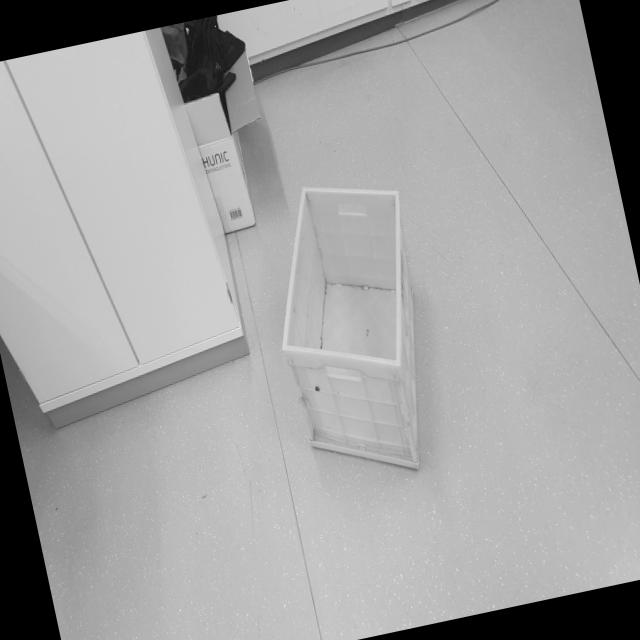box: (243, 144, 462, 503)
